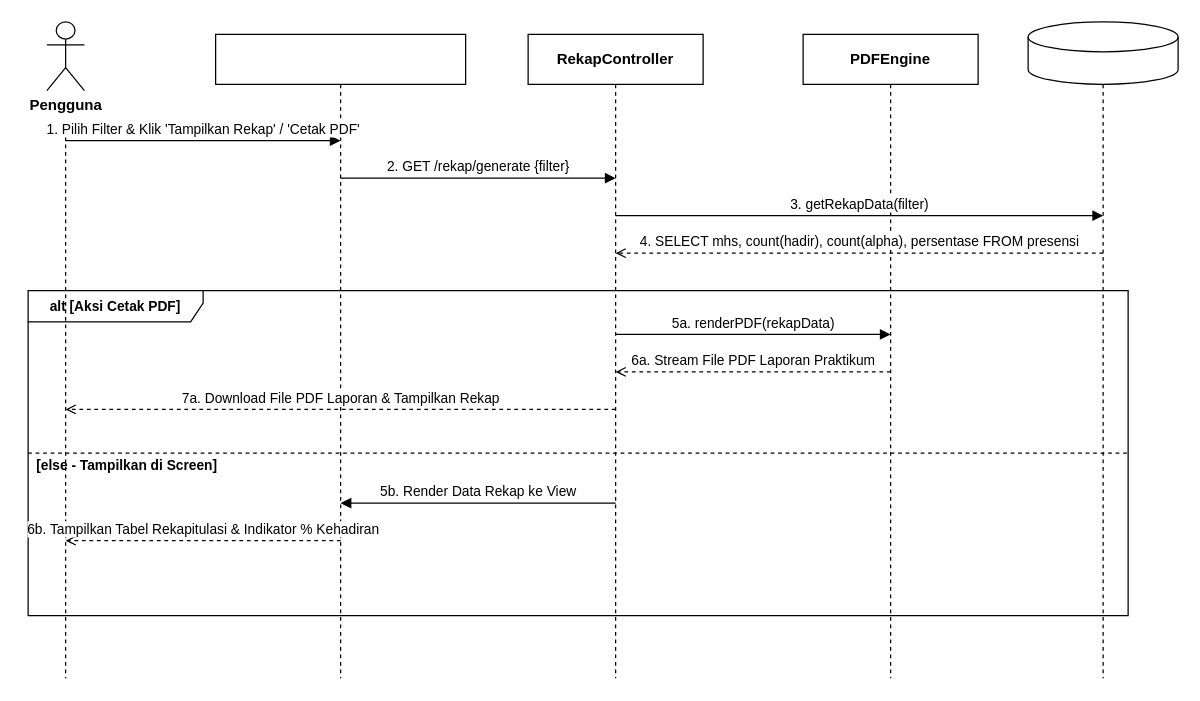
Image size: 1200x701. Some labels were removed from this diagram. The centre of each missing label's shape, as x and y in pixels:
Database MySQL: the point at 1102,52
View (rekap_praktikum.php): the point at 340,58
